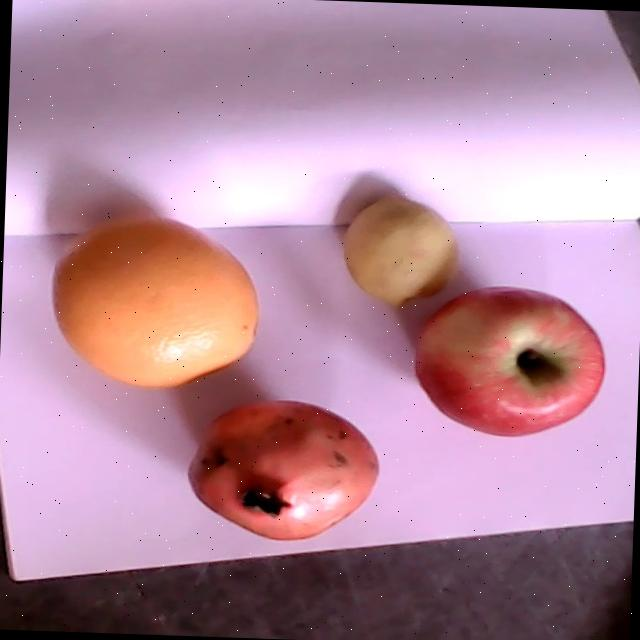apple: (412, 285, 605, 438)
lemon: (344, 190, 458, 307)
orange: (52, 214, 256, 386)
pomegranate: (186, 399, 378, 539)
